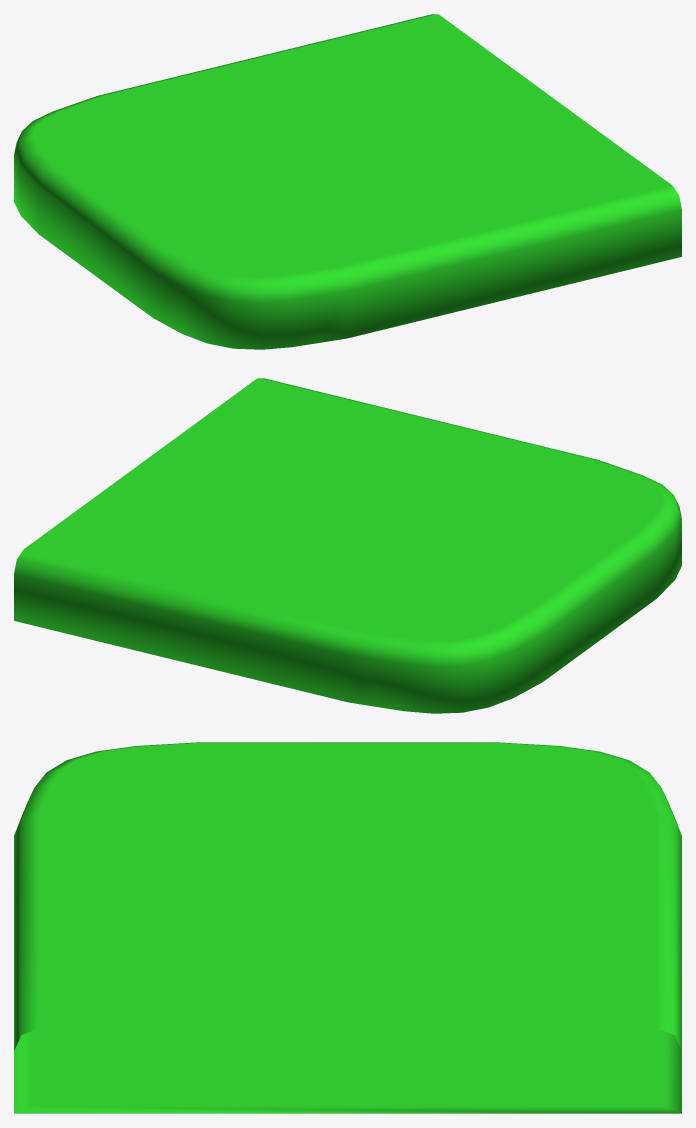
Rendered from ContainerLidU.fbx.
The picture shows the model from 3 angles, top to bottom: view 1: azimuth 30°, elevation 25°; view 2: azimuth 150°, elevation 25°; view 3: azimuth 270°, elevation 25°; orthographic projection. The views are drawn at different scales.
Parts seen in each view (by area): view 1: ContainerLidU; view 2: ContainerLidU; view 3: ContainerLidU.
Boxes of the visible parts, box(x1,y1,x2,y2) form: ContainerLidU: box(14, 14, 681, 349); ContainerLidU: box(14, 378, 681, 713); ContainerLidU: box(14, 742, 681, 1113).
Bounding box in the file's own units: 46.99 × 6.3 × 44.83.
